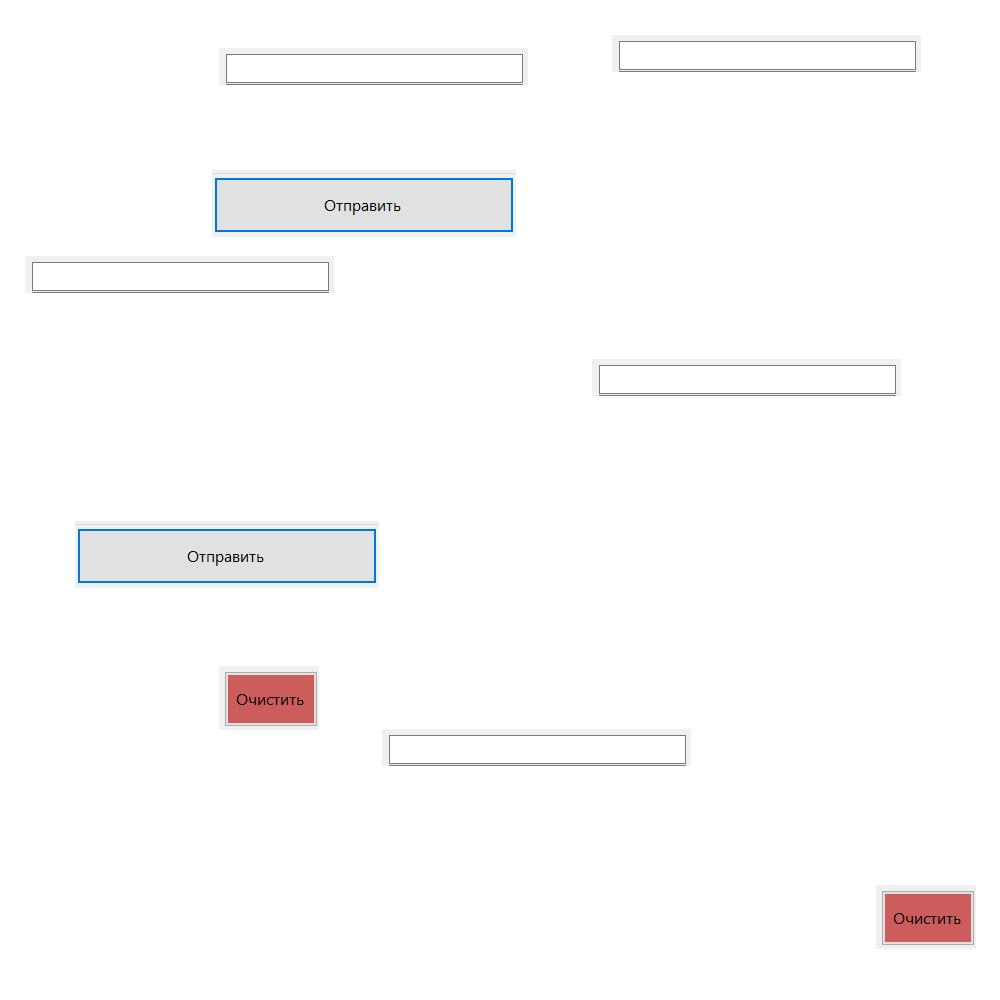Button: (212, 170, 516, 237), (75, 521, 379, 588), (219, 666, 319, 730), (876, 885, 976, 949)
EditText-: (592, 359, 901, 396), (25, 256, 334, 293), (612, 35, 921, 72), (382, 729, 691, 766), (219, 48, 528, 85)
